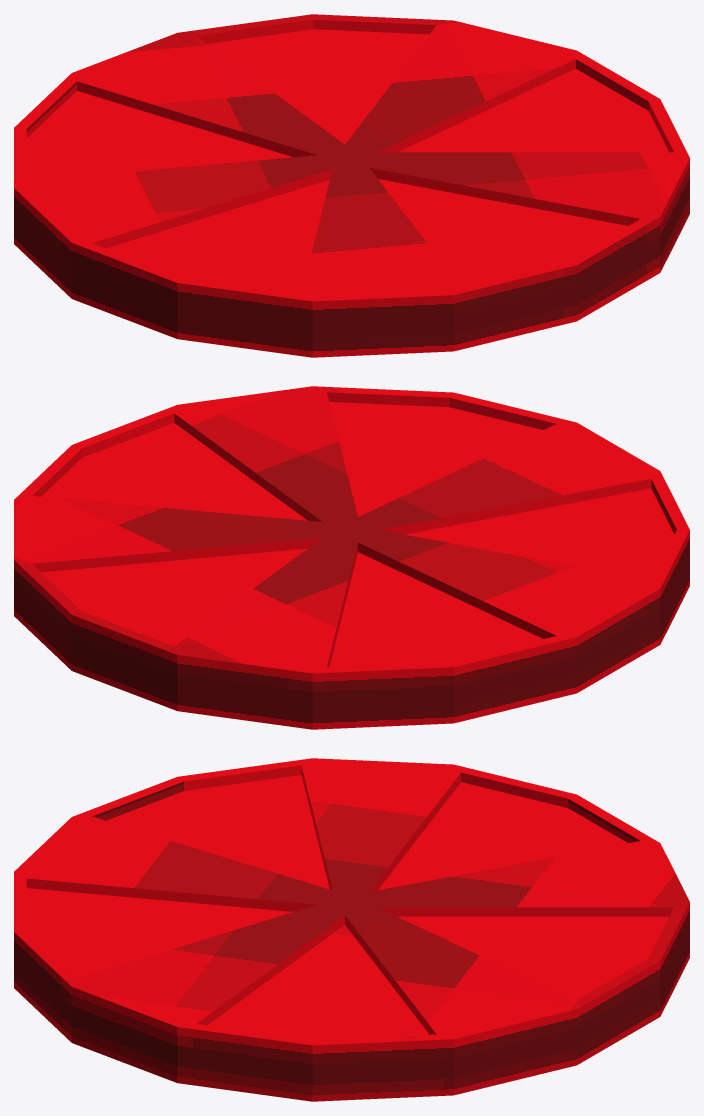
File: tomato.fbx
The picture shows the model from 3 angles, top to bottom: view 1: azimuth 30°, elevation 25°; view 2: azimuth 150°, elevation 25°; view 3: azimuth 270°, elevation 25°; orthographic projection.
Parts seen in each view (by area): view 1: Cylinder.004; view 2: Cylinder.004; view 3: Cylinder.004.
Boxes of the visible parts, <box> form: Cylinder.004: <box>14,14,689,357</box>; Cylinder.004: <box>14,386,689,729</box>; Cylinder.004: <box>14,758,689,1101</box>.
Bounding box in the file's own units: 52.81 × 4.82 × 52.52.
